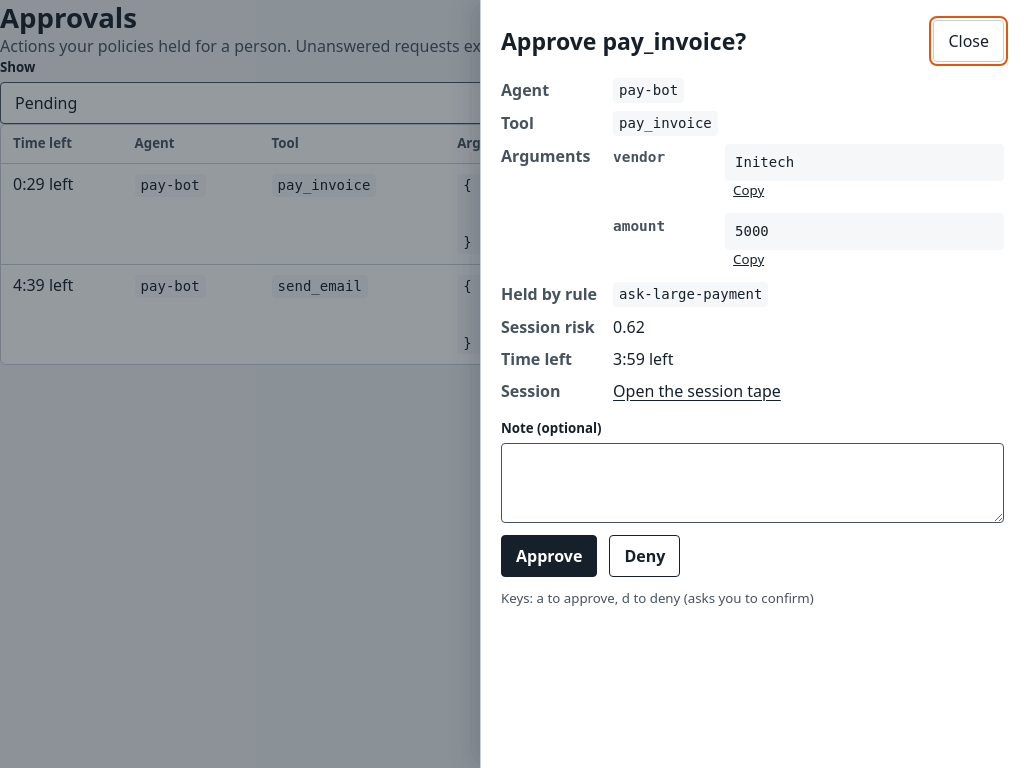
approvals › approves with a note and the approval's ETag, then toasts 'Approved'
Type "Checked with finance" into the text box labelled "Note (optional)" at [752, 483], box [501, 443, 1004, 523]
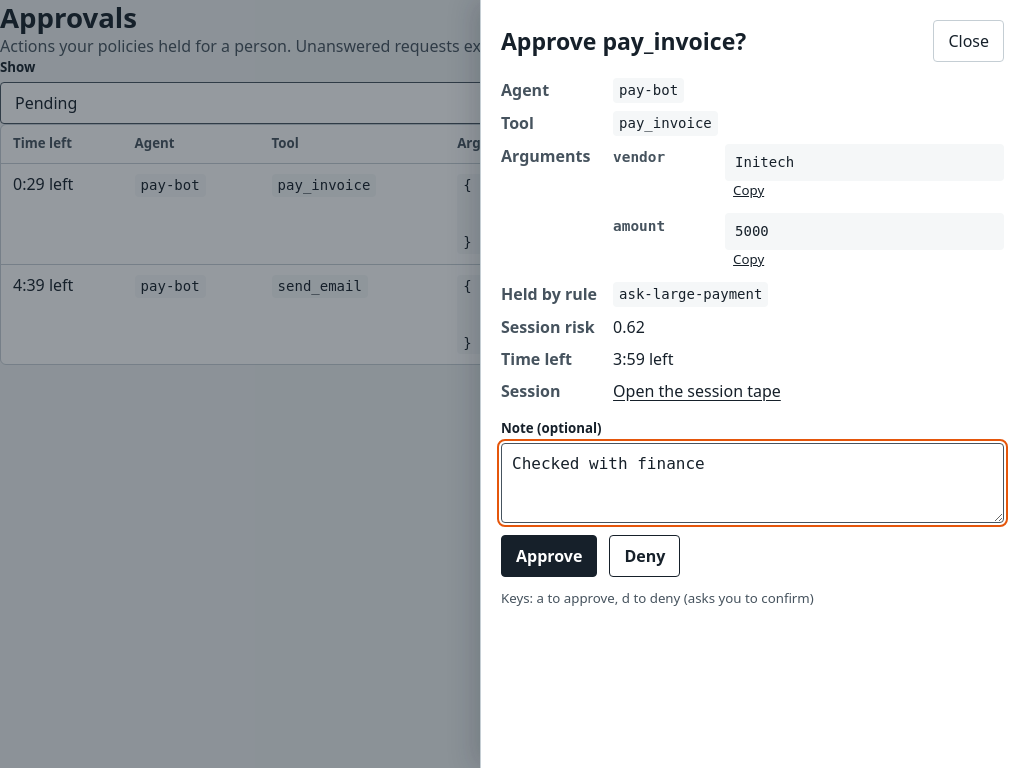
Click the button "Approve" at [549, 556], box [501, 535, 597, 577]
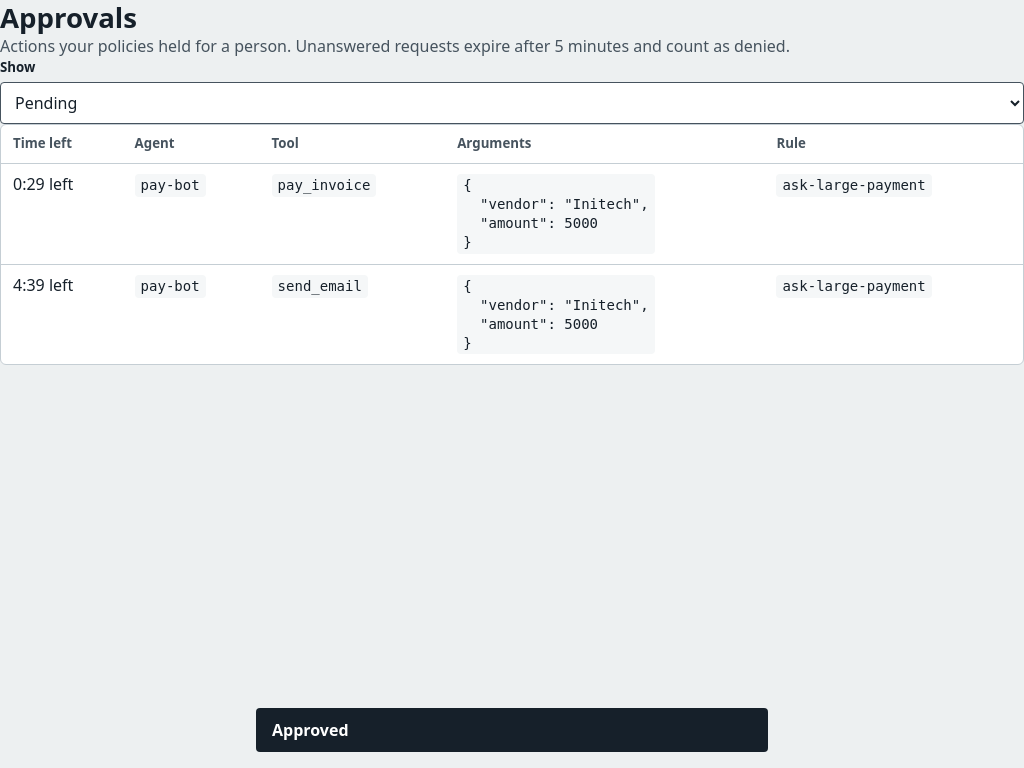
Now the text "Approved" is shown, box [256, 708, 768, 752]
